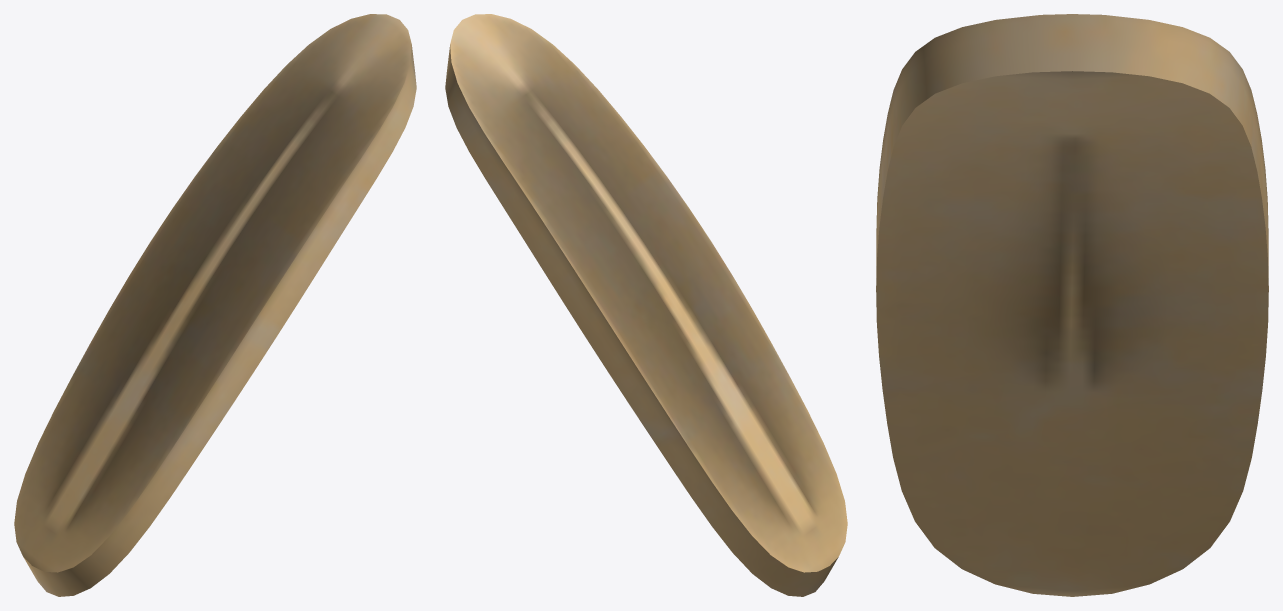
Rendered from wm_legolas_sword_guard.fbx.
3 renders of one model, left to right at view 1: azimuth 30°, elevation 25°; view 2: azimuth 150°, elevation 25°; view 3: azimuth 270°, elevation 25°, orthographic. The views are drawn at different scales.
Visible parts, largest first — view 1: wm_legolas_sword_guard; view 2: wm_legolas_sword_guard; view 3: wm_legolas_sword_guard.
Boxes of the visible parts, x1,y1,x2,y2 form: wm_legolas_sword_guard: (14, 14, 416, 596); wm_legolas_sword_guard: (445, 14, 847, 596); wm_legolas_sword_guard: (876, 14, 1268, 596).
Bounding box in the file's own units: 0.0484 × 0.0241 × 0.0611.
Materials: 1 (1 with a texture image).
